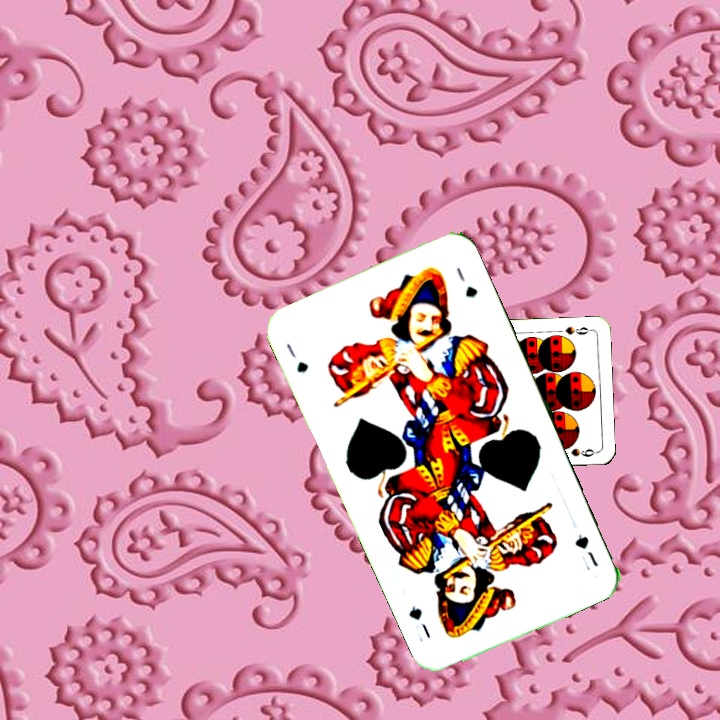GU: (572, 529, 601, 569), (282, 338, 311, 376)
S9: (561, 323, 594, 338)
